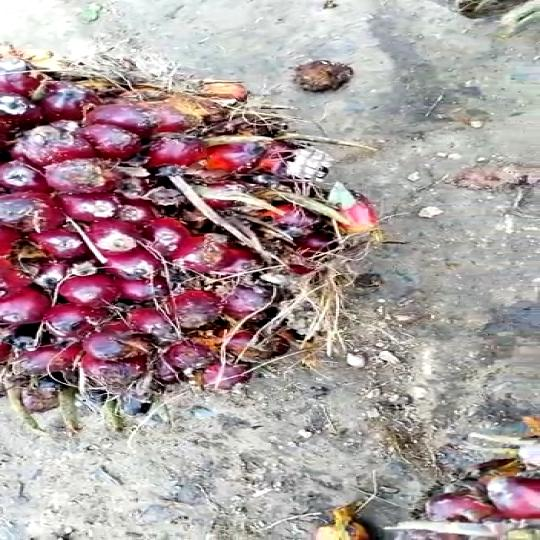masak: (0, 45, 387, 429)
